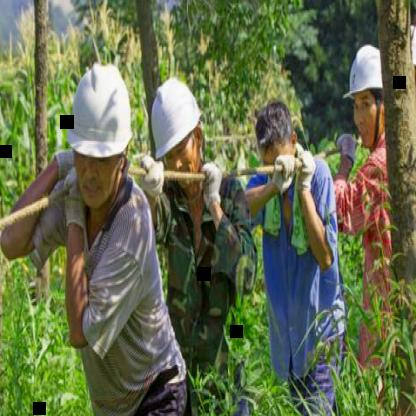head: (253, 96, 301, 180)
helmet: (62, 58, 132, 214), (138, 66, 214, 198), (345, 34, 387, 150), (408, 16, 416, 112)
